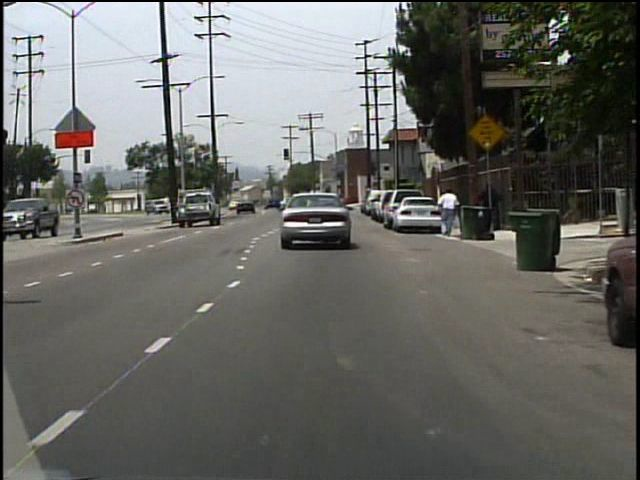person: (437, 186, 460, 239)
